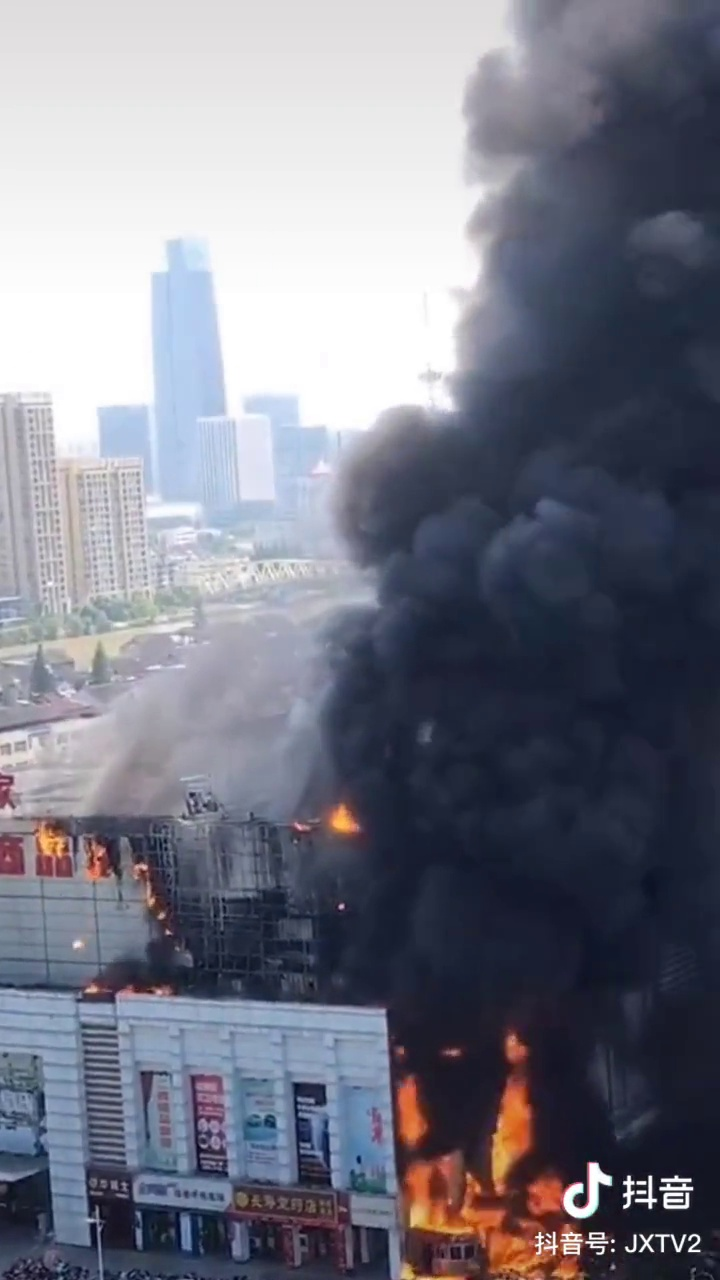fire: (394, 1057, 559, 1267)
yanwu: (335, 34, 672, 1057)
